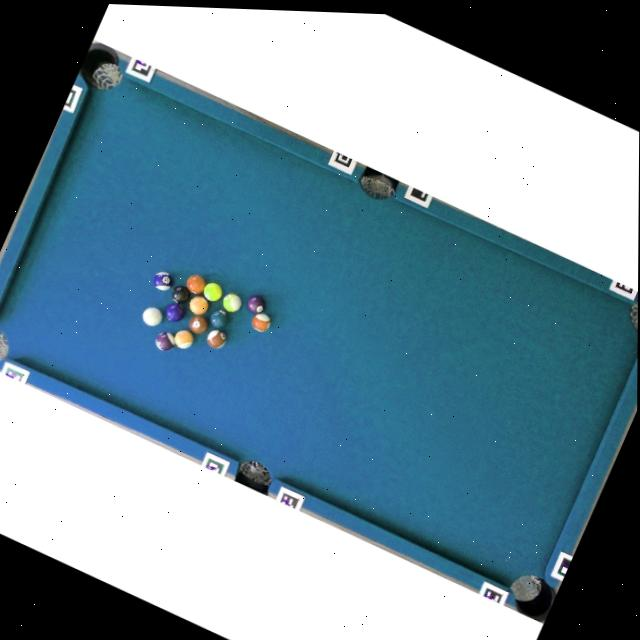cue ball: (139, 303, 165, 330)
other: (149, 268, 177, 295), (161, 299, 187, 326), (183, 270, 209, 297), (218, 289, 244, 316), (199, 278, 225, 305), (170, 325, 196, 352), (152, 329, 178, 355), (203, 326, 229, 352), (167, 281, 192, 307), (186, 292, 211, 318), (243, 292, 268, 317), (249, 309, 273, 335), (206, 306, 230, 332), (186, 312, 210, 337)
